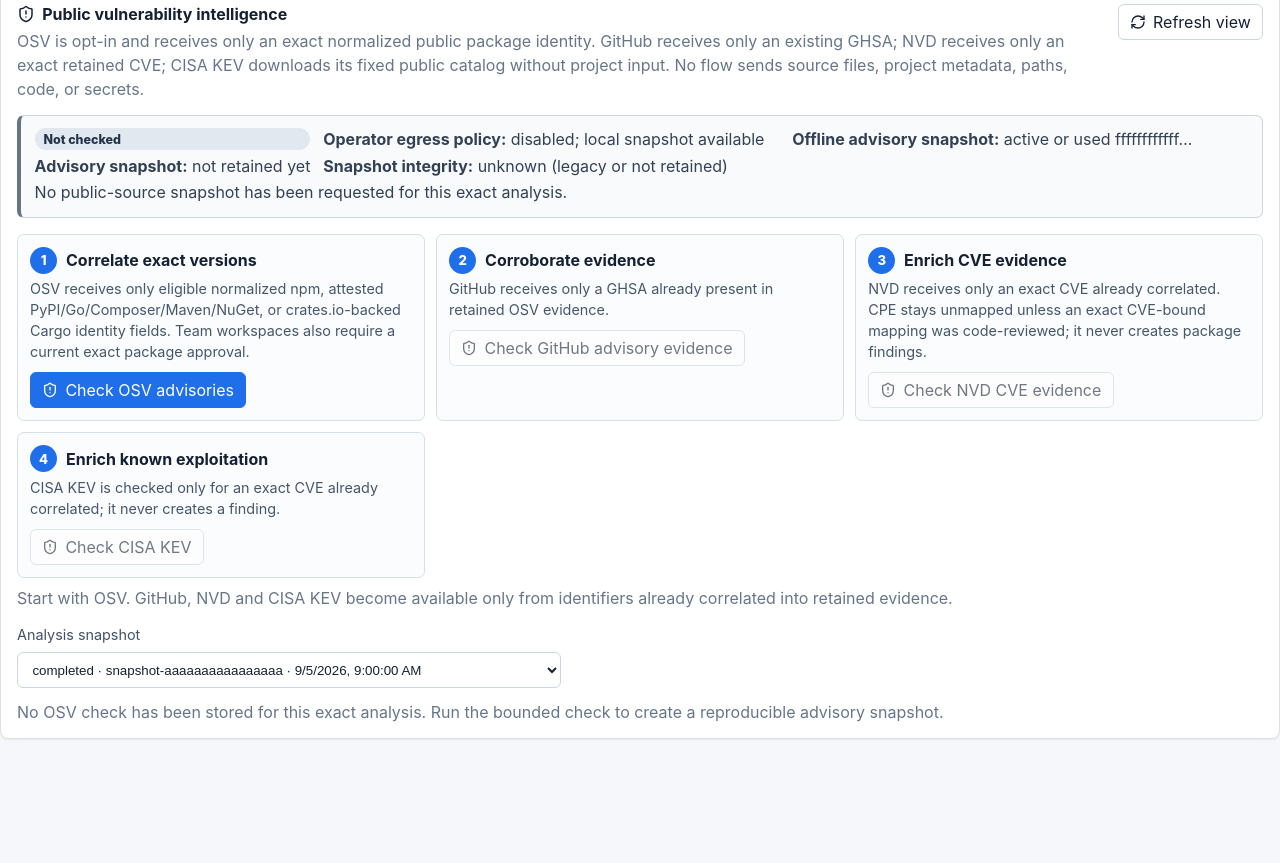
Test: ProjectVulnerabilityIntelligencePanel › runs from an operator-imported offline snapshot while network egress remains disabled
Expected: the text "Operator egress policy: disabled; local snapshot available" is shown, [323,129,779,149]
Expected: the text "Offline advisory snapshot: active or used ffffffffffff…" is shown, [792,129,1248,149]
Click the button "Check OSV advisories".
click(138, 390)  # box [30,372,246,408]
(page scrolled)
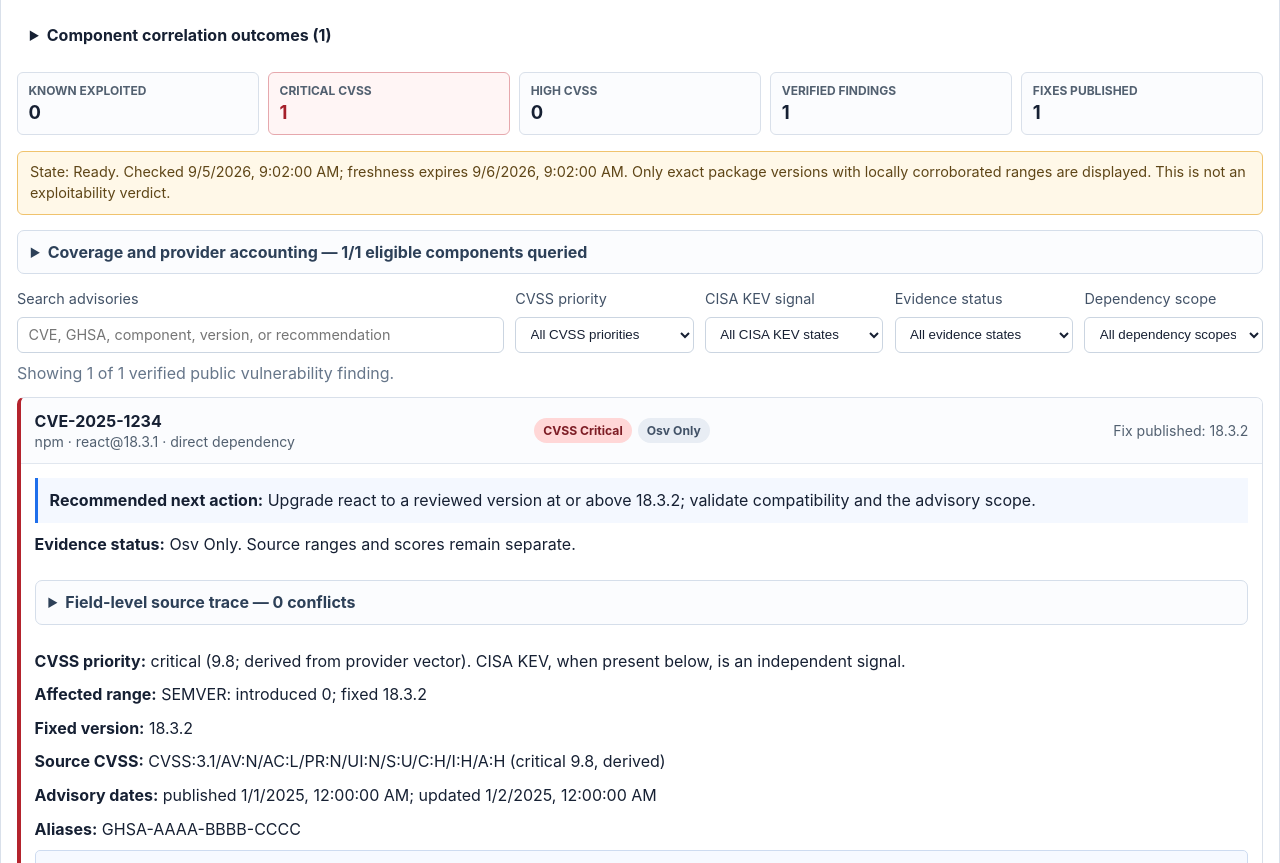
Expected: the text "CVE-2025-1234" is shown, [35,411,162,431]
